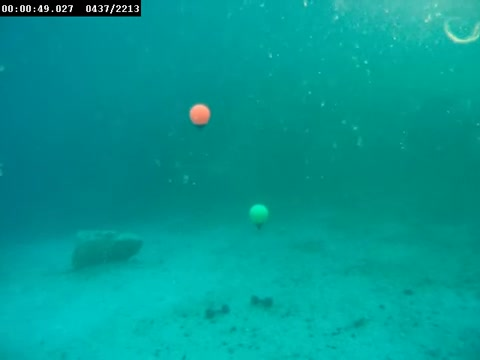buoy_green: (248, 202, 268, 231)
buoy_red: (186, 101, 211, 133)
